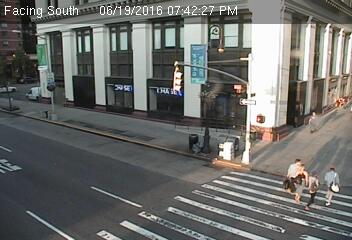neg: (154, 118, 179, 151), (20, 64, 42, 94), (206, 117, 226, 144), (22, 127, 42, 154), (244, 53, 263, 78), (102, 120, 118, 142), (290, 45, 306, 66), (70, 44, 86, 65), (152, 64, 166, 83), (62, 162, 76, 180), (106, 184, 120, 202)
pos: (281, 155, 312, 196), (301, 169, 328, 206), (322, 167, 349, 203)
